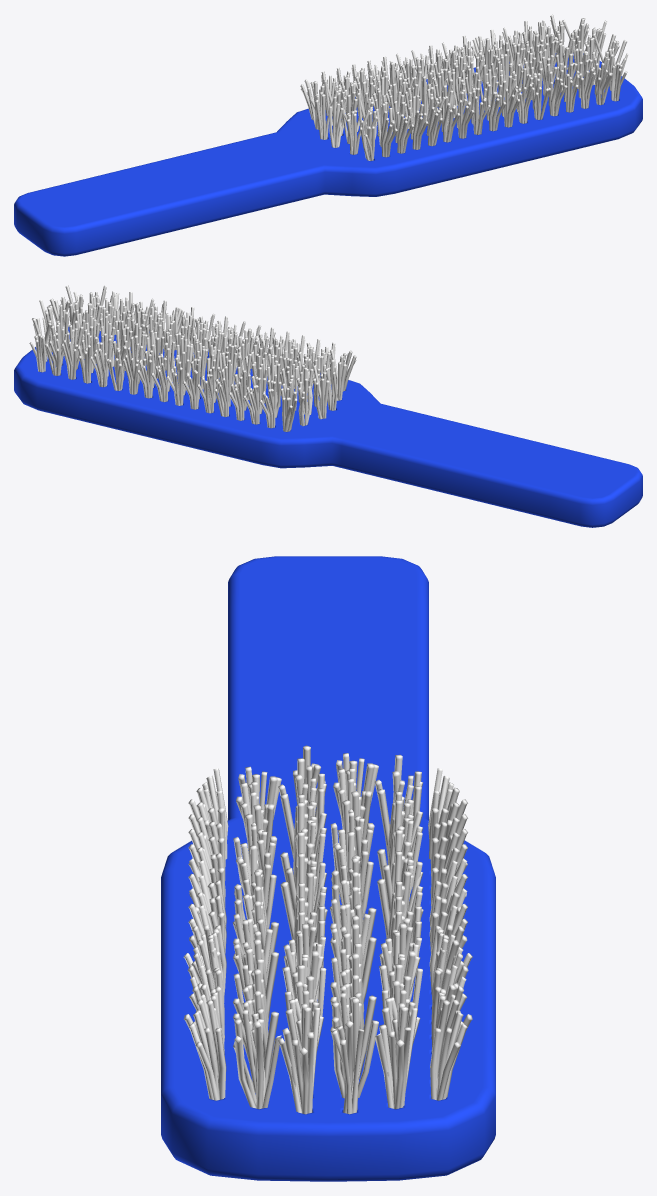
The model's file is spazzola.fbx.
3 views of the same model, one above another, from view 1: azimuth 30°, elevation 25°; view 2: azimuth 150°, elevation 25°; view 3: azimuth 270°, elevation 25° (orthographic). The views are drawn at different scales.
Visible parts, largest first — view 1: Fur brush; view 2: Fur brush; view 3: Fur brush.
Part boxes in pixels (box(x1,y1,x2,y2)): Fur brush: box(14, 14, 642, 256); Fur brush: box(14, 285, 642, 527); Fur brush: box(161, 556, 495, 1181).
Size of the model in its own units: 34.78 by 8.56 by 4.43.
